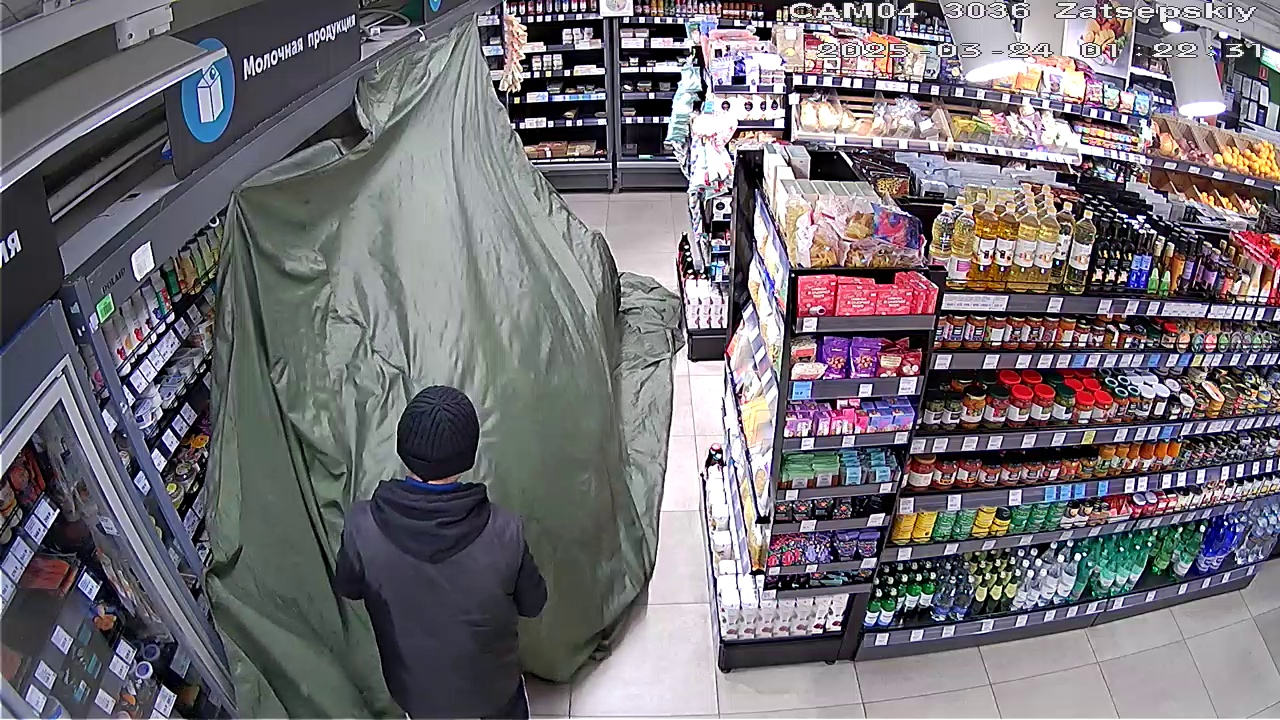Human: (327, 381, 555, 718)
dome: (191, 53, 686, 713)
